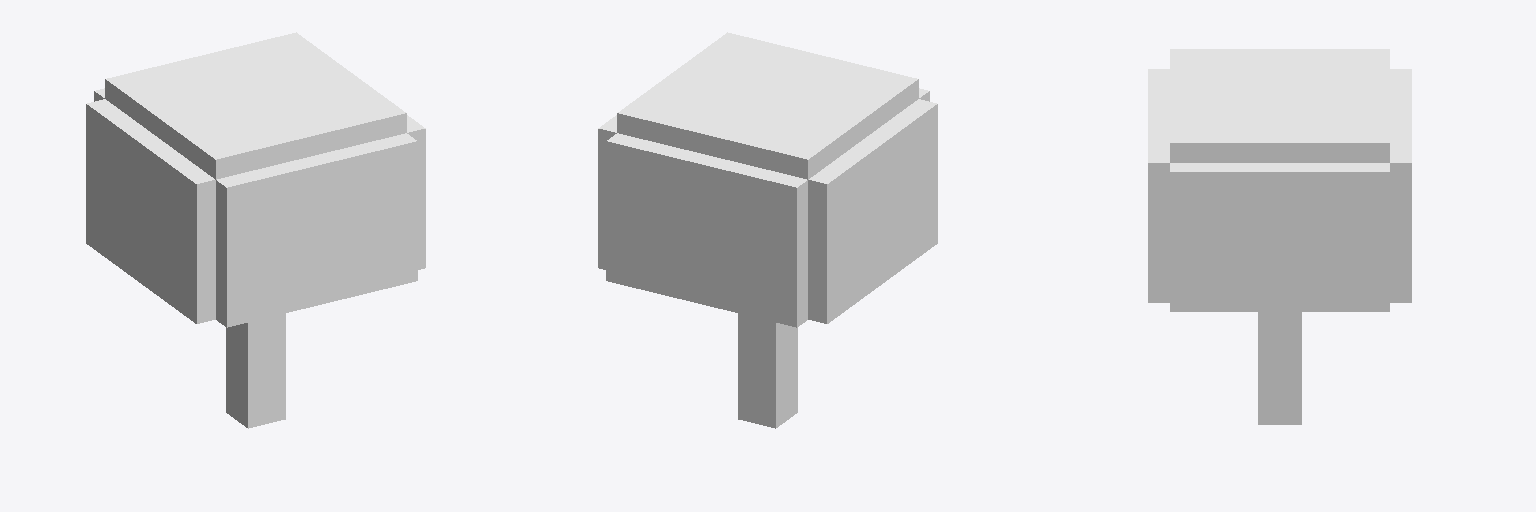
The model's file is resource-0.obj.
3 views of the same model, side by side, from view 1: azimuth 30°, elevation 25°; view 2: azimuth 150°, elevation 25°; view 3: azimuth 270°, elevation 25° (orthographic).
Visible parts, largest first — view 1: object 1; view 2: object 1; view 3: object 1.
Boxes of the visible parts, <box> form: object 1: <box>86,32,425,428</box>; object 1: <box>598,32,937,428</box>; object 1: <box>1148,49,1411,424</box>.
Size of the model in its own units: 1.2 by 1.6 by 1.2.